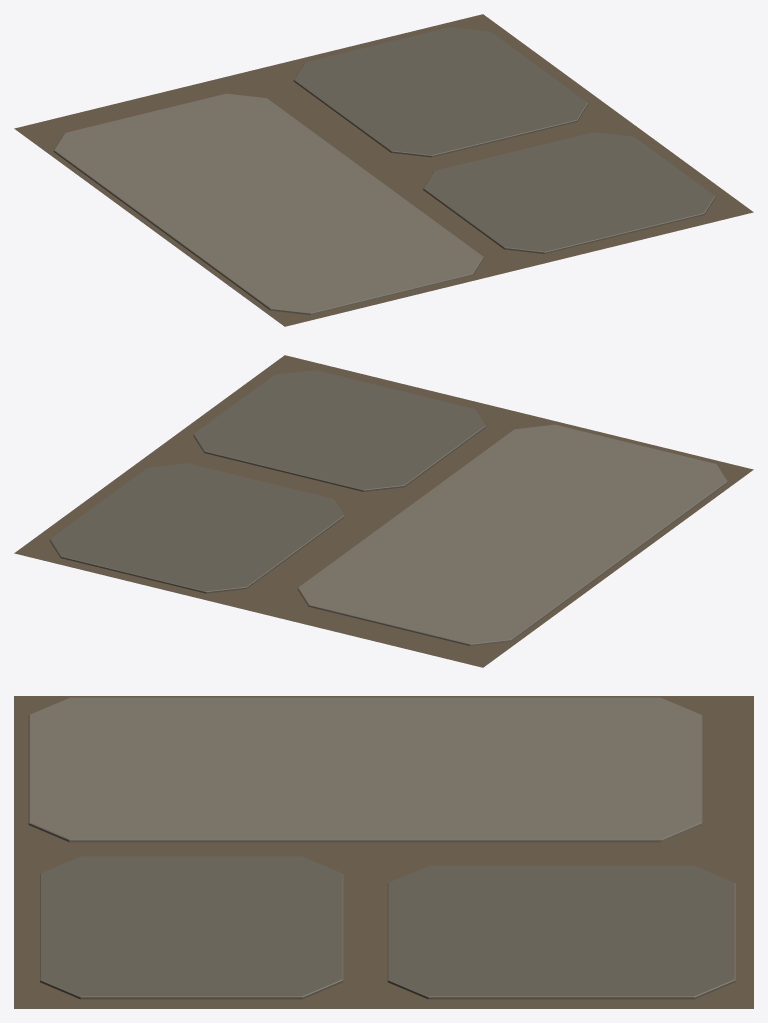
Rendered from floor_stone_broken_2m.glb.
3 renders of one model, top to bottom at view 1: azimuth 30°, elevation 25°; view 2: azimuth 150°, elevation 25°; view 3: azimuth 270°, elevation 25°, orthographic. The views are drawn at different scales.
Visible parts, largest first — view 1: Body_floor_stone_broken_2m.001; view 2: Body_floor_stone_broken_2m.001; view 3: Body_floor_stone_broken_2m.001.
Boxes of the visible parts, box(x1,y1,x2,y2) form: Body_floor_stone_broken_2m.001: box(14, 14, 753, 326); Body_floor_stone_broken_2m.001: box(14, 355, 753, 667); Body_floor_stone_broken_2m.001: box(14, 696, 753, 1008).
Bounding box in the file's own units: 2 × 0.016 × 2.
